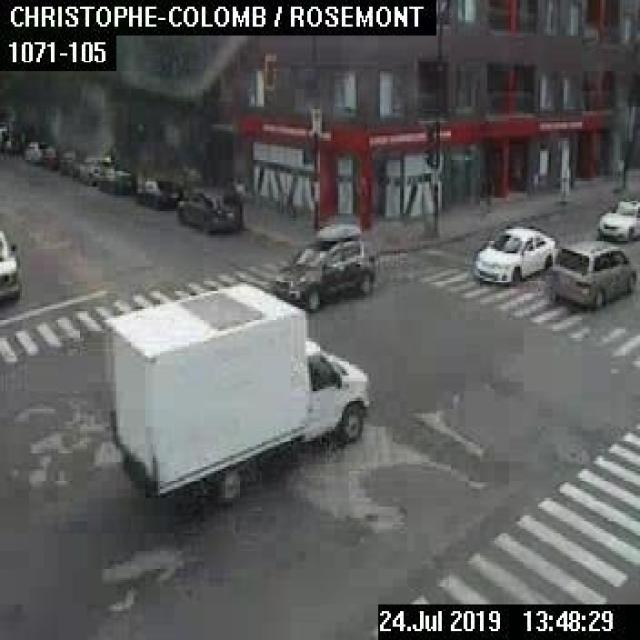vehicle: (101, 280, 368, 504), (270, 222, 374, 308), (548, 239, 636, 306), (473, 224, 553, 284), (177, 185, 242, 231), (596, 198, 638, 240), (0, 226, 18, 298), (136, 177, 178, 207), (98, 164, 134, 193), (77, 155, 109, 184), (58, 148, 81, 177), (23, 140, 46, 162), (43, 144, 59, 168)
